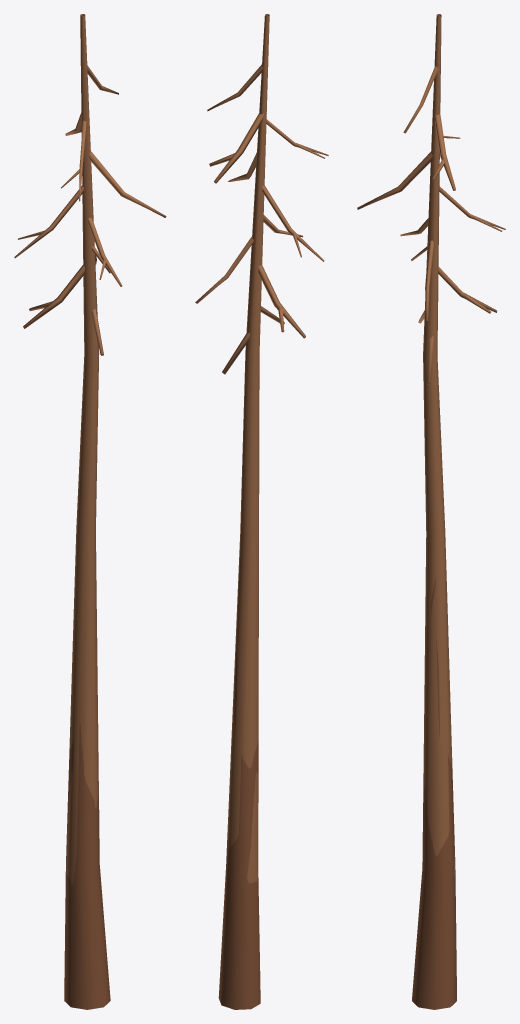
File: md_dead_tree_1.fbx
3 renders of one model, left to right at view 1: azimuth 90°, elevation 25°; view 2: azimuth 210°, elevation 25°; view 3: azimuth 270°, elevation 25°, orthographic. The views are drawn at different scales.
Parts seen in each view (by area): view 1: md_dead_tree_1_LOD00; view 2: md_dead_tree_1_LOD00; view 3: md_dead_tree_1_LOD00.
Part boxes in pixels (box(x1,y1,x2,y2)): md_dead_tree_1_LOD00: box(14, 14, 166, 1009); md_dead_tree_1_LOD00: box(195, 14, 328, 1009); md_dead_tree_1_LOD00: box(357, 14, 505, 1009).
Size of what is drawn, in the model's own units: 1.71 by 12.81 by 1.77.
